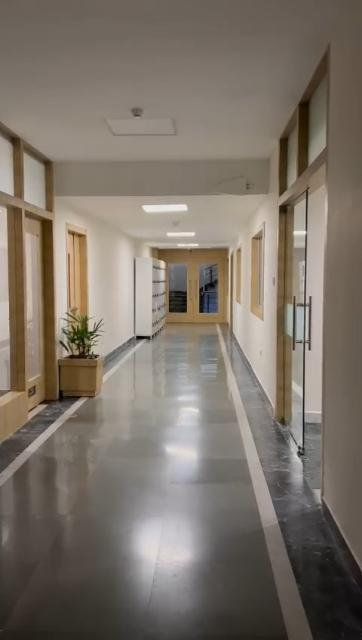door: (0, 137, 56, 423), (279, 195, 317, 459), (168, 249, 228, 325)
floor: (0, 323, 362, 640)
object: (58, 312, 106, 398)
wall: (326, 16, 362, 518), (89, 223, 135, 337), (262, 208, 274, 396), (239, 230, 249, 346)
